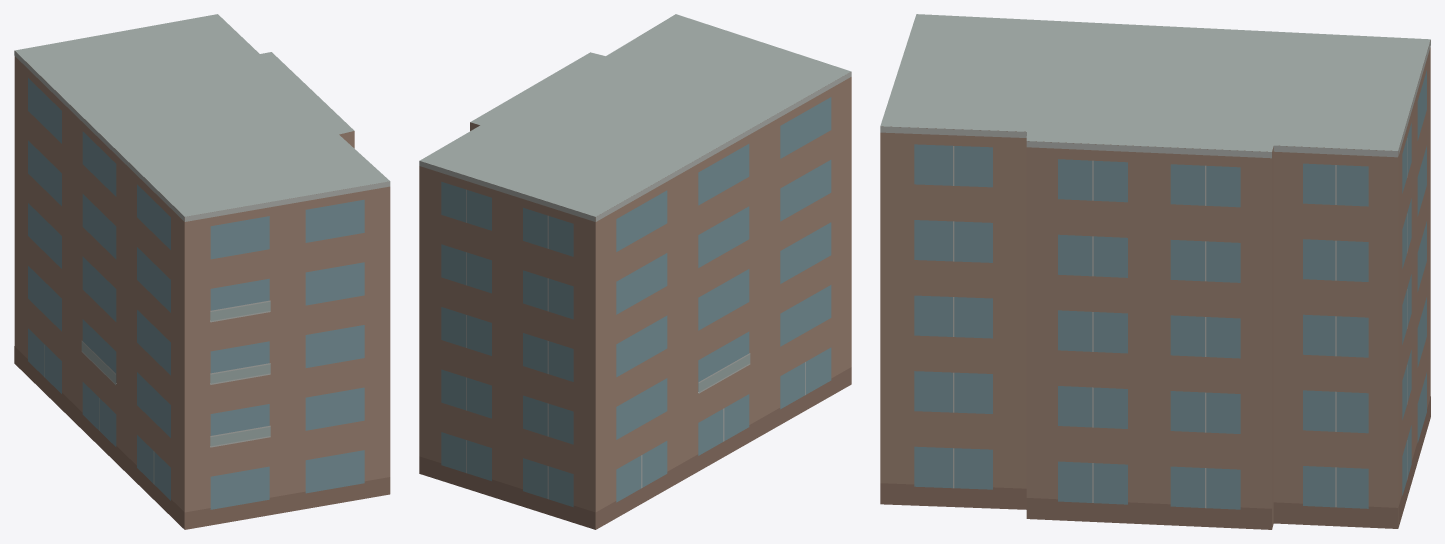
File: survey-upis-32564259.glb
The picture shows the model from 3 angles, left to right: view 1: azimuth 30°, elevation 25°; view 2: azimuth 150°, elevation 25°; view 3: azimuth 270°, elevation 25°; orthographic projection. The views are drawn at different scales.
Visible parts, largest first — view 1: survey-upis-32564259.tmp; view 2: survey-upis-32564259.tmp; view 3: survey-upis-32564259.tmp.
Part boxes in pixels (x1=…): survey-upis-32564259.tmp: x1=14, y1=14, x2=390, y2=529; survey-upis-32564259.tmp: x1=419, y1=14, x2=851, y2=529; survey-upis-32564259.tmp: x1=880, y1=14, x2=1430, y2=529.
Bounding box in the file's own units: 11.52 × 14.7 × 19.42.
